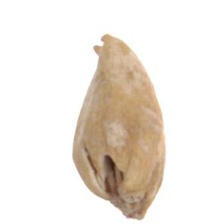L1: (106, 192, 146, 220), (92, 31, 118, 58)
L2: (71, 33, 166, 222)
